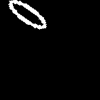chain: (9, 0, 45, 28)
